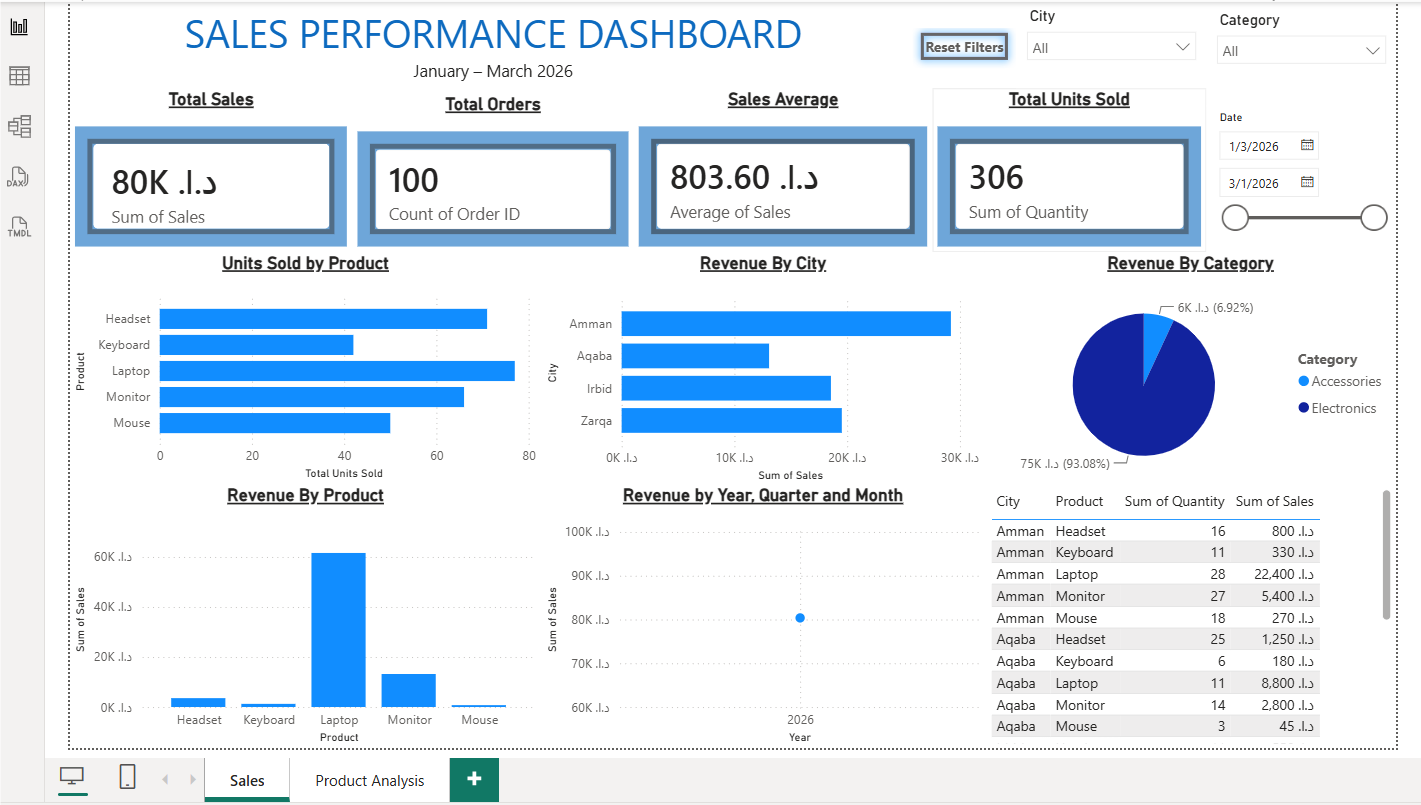

The page's visual inventory and layout, read from the dashboard file:
{"tool":"powerbi","page":{"name":"Sales","canvas":[1280,720],"ordinal":0},"visuals":[{"type":"cardVisual","title":"Total Sales ","fields":{"Data":["Sum(Sales.Sales)"]},"box":[0,83.2,272.7,158],"z":0},{"type":"cardVisual","title":"Total Orders ","fields":{"Data":["CountNonNull(Sales.Order ID)"]},"box":[272.7,83.2,271.4,158],"z":1000},{"type":"cardVisual","title":"Total Units Sold","fields":{"Data":["Sum(Sales.Quantity)"]},"box":[832.4,83.2,264.2,158],"z":2000},{"type":"clusteredBarChart","title":"Revenue By City","fields":{"Category":["Sales.City"],"Y":["Sum(Sales.Sales)"]},"box":[454.8,241.3,428.3,226.8],"z":3000},{"type":"pieChart","title":"Revenue By Category","fields":{"Category":["Sales.Category"],"Y":["Sum(Sales.Sales)"]},"box":[883.1,241.3,396.9,224.4],"z":4000},{"type":"clusteredColumnChart","title":"Revenue By Product","fields":{"Category":["Sales.Product"],"Y":["Sum(Sales.Sales)"]},"box":[0,466.2,454.8,254.6],"z":5000},{"type":"lineChart","title":"Revenue by Year, Quarter and Month","fields":{"Category":["Sales.Date.Variation.Date Hierarchy.Year","Sales.Date.Variation.Date Hierarchy.Quarter","Sales.Date.Variation.Date Hierarchy.Month","Sales.Date.Variation.Date Hierarchy.Day"],"Y":["Sum(Sales.Sales)"]},"box":[454.8,465.7,428.3,254.6],"z":6000},{"type":"slicer","fields":{"Values":["Sales.City"]},"box":[913.3,0,183.4,83.2],"z":7000},{"type":"slicer","fields":{"Values":["Sales.Category"]},"box":[1096.7,3.6,183.4,96.5],"z":8000},{"type":"slicer","title":"Date","fields":{"Values":["Sales.Date"]},"box":[1096.7,100.1,183.4,141.2],"z":9000},{"type":"tableEx","fields":{"Values":["Sales.City","Sales.Product","Sum(Sales.Quantity)","Sum(Sales.Sales)"]},"box":[883.1,465.7,396.9,254.6],"z":10000},{"type":"cardVisual","title":"Sales Average","fields":{"Data":["Avg(Sales.Sales)"]},"box":[544.1,83.2,288.3,158],"z":11000},{"type":"textbox","box":[0,0,816.8,83.2],"z":12000},{"type":"actionButton","box":[813.1,21.7,100.1,42.2],"z":13000},{"type":"clusteredBarChart","title":"Units Sold by Product","fields":{"Category":["Sales.Product"],"Y":["Sales.Total Units Sold"]},"box":[0,241.3,454.8,224.4],"z":14000}]}

Visuals, with their boxes on the page's 1280x720 design canvas (x1, y1, x2, y2). These are canvas units, not pixel positions in the 1421x805 screenshot, which may show the page scaled, cropped or inside an application window:
"Total Sales " cardVisual: <box>0,83,273,241</box>
"Total Orders " cardVisual: <box>273,83,544,241</box>
"Total Units Sold" cardVisual: <box>832,83,1097,241</box>
"Revenue By City" clusteredBarChart: <box>455,241,883,468</box>
"Revenue By Category" pieChart: <box>883,241,1280,466</box>
"Revenue By Product" clusteredColumnChart: <box>0,466,455,721</box>
"Revenue by Year, Quarter and Month" lineChart: <box>455,466,883,720</box>
slicer - Sales.City: <box>913,0,1097,83</box>
slicer - Sales.Category: <box>1097,4,1280,100</box>
"Date" slicer: <box>1097,100,1280,241</box>
tableEx - Sales.City x Sales.Product: <box>883,466,1280,720</box>
"Sales Average" cardVisual: <box>544,83,832,241</box>
textbox: <box>0,0,817,83</box>
actionButton: <box>813,22,913,64</box>
"Units Sold by Product" clusteredBarChart: <box>0,241,455,466</box>
